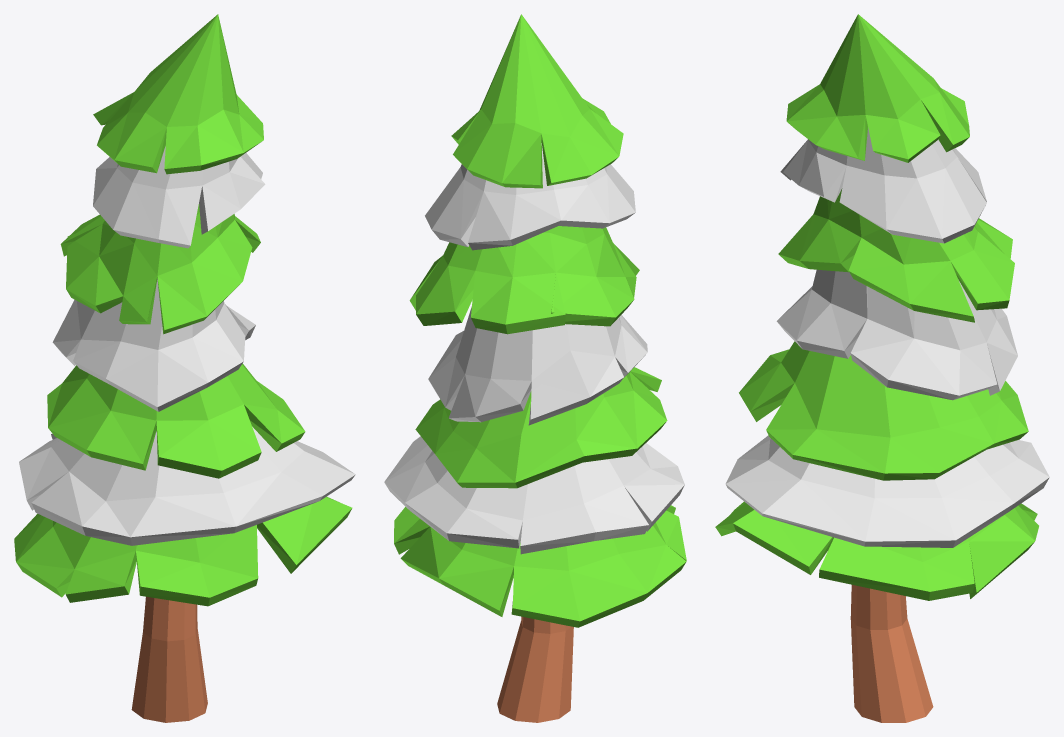
File: Tree_4.fbx
3 views of the same model, side by side, from view 1: azimuth 30°, elevation 25°; view 2: azimuth 150°, elevation 25°; view 3: azimuth 270°, elevation 25° (orthographic). The views are drawn at different scales.
Parts seen in each view (by area): view 1: Tree_4; view 2: Tree_4; view 3: Tree_4.
Part boxes in pixels (bbox=[...]): Tree_4: bbox=[14, 14, 355, 722]; Tree_4: bbox=[384, 14, 686, 722]; Tree_4: bbox=[715, 14, 1049, 722].
Size of the model in its own units: 2.45 by 5.93 by 2.54.
